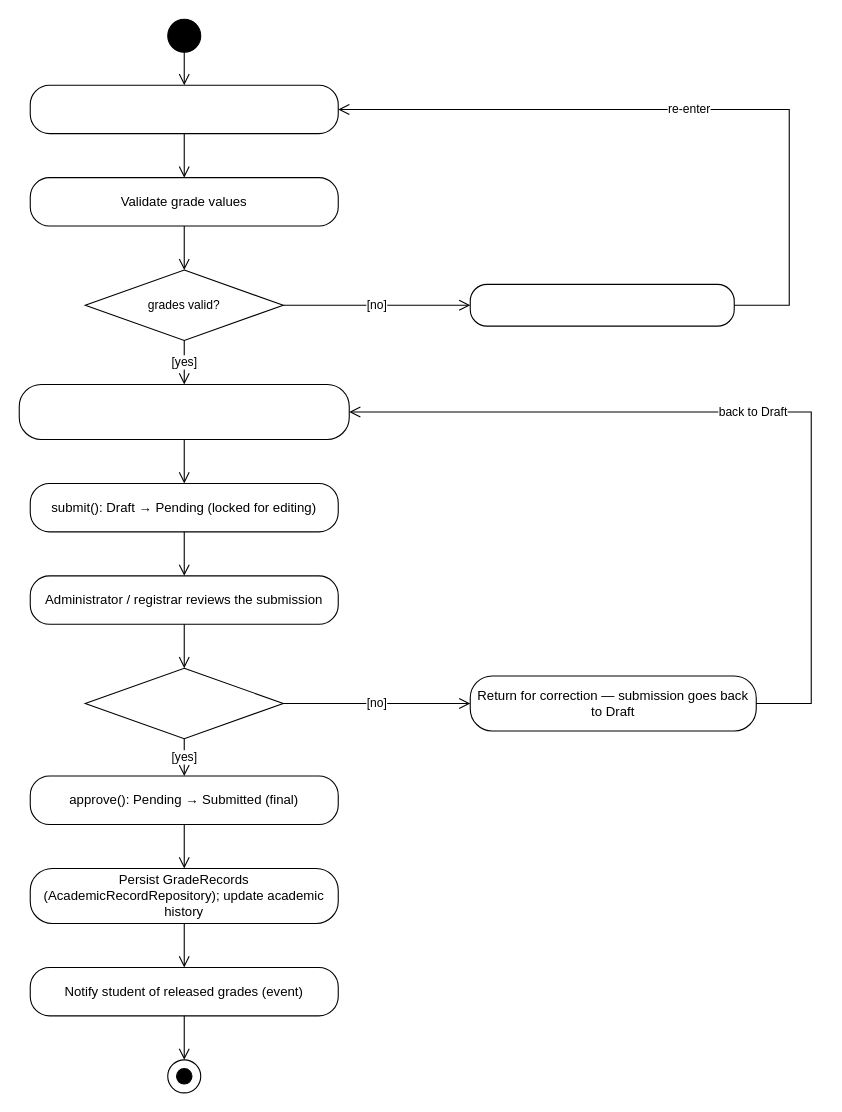
This 842x1112 diagram has some shape labels left out. Each missing label, with the centre of its shape:
"approved?" goes at (183,703).
"GradeSubmission in Draft — Instructure may edit() (DraftState)" goes at (183,411).
"Instructure enters grades for a course offering" goes at (183,109).
"Show validation errors to Instructure" goes at (601,304).
